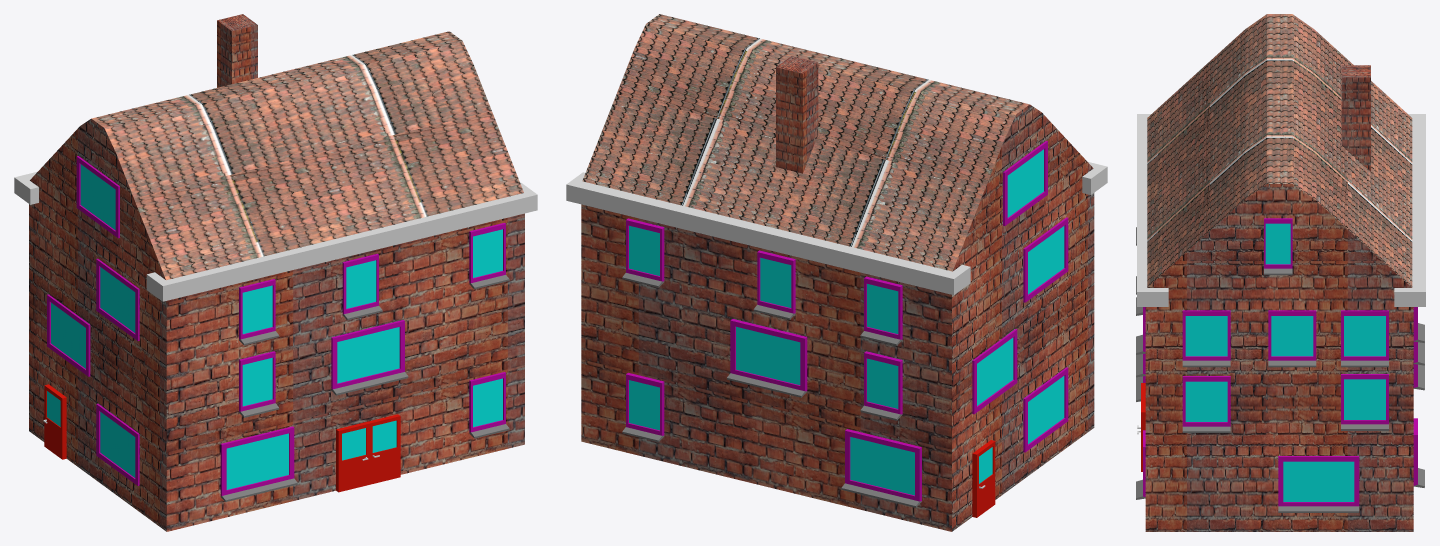
The model's file is huis2.glb.
The picture shows the model from 3 angles, left to right: view 1: azimuth 30°, elevation 25°; view 2: azimuth 150°, elevation 25°; view 3: azimuth 270°, elevation 25°; orthographic projection. The views are drawn at different scales.
Visible parts, largest first — view 1: Huis; view 2: Huis; view 3: Huis.
Part boxes in pixels (x1,y1,x2,y2): Huis: [14, 14, 537, 531]; Huis: [566, 14, 1107, 531]; Huis: [1136, 14, 1425, 531].
Bounding box in the file's own units: 6.28 × 6.19 × 4.33.
7 materials, 2 textured.
